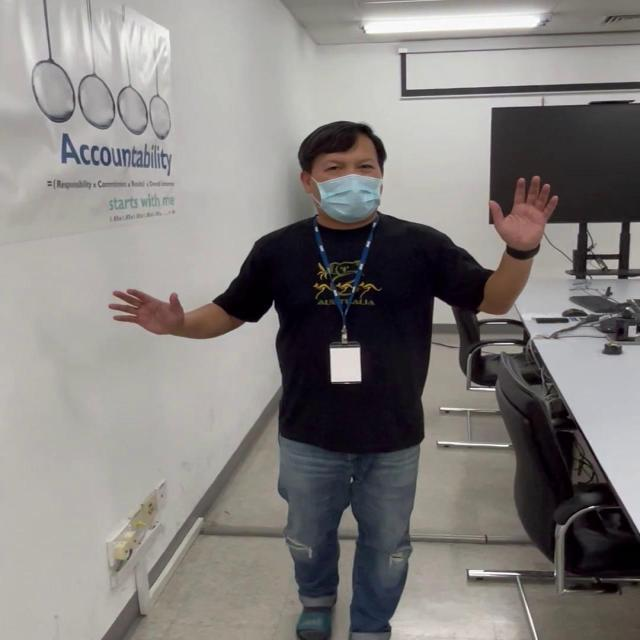bare_hand: (487, 170, 559, 252), (107, 281, 181, 338)
